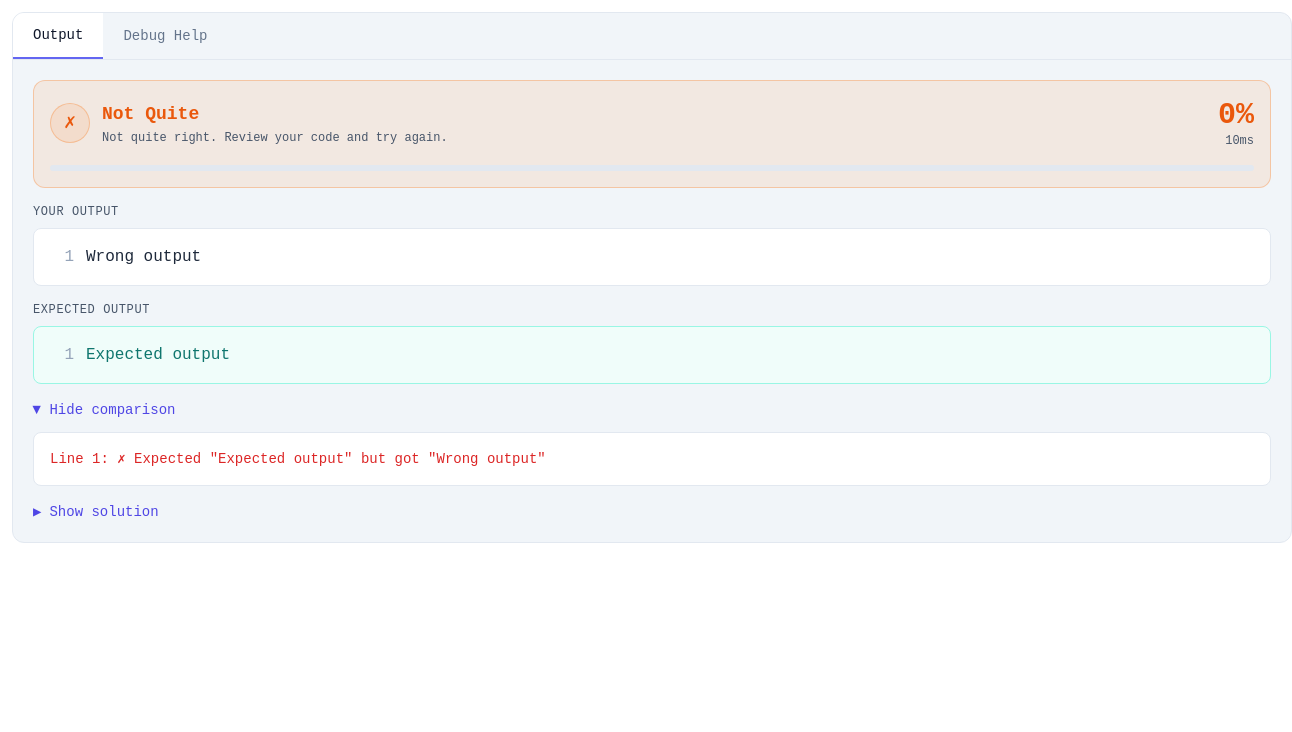
Scenario: OutputPanel › Solution Display › toggles solution visibility
Check: the text "const x = 1;" is not shown
Click to show
Click the button "▶ Show solution". click: coordinates (96, 512)
box: [33,502,159,522]
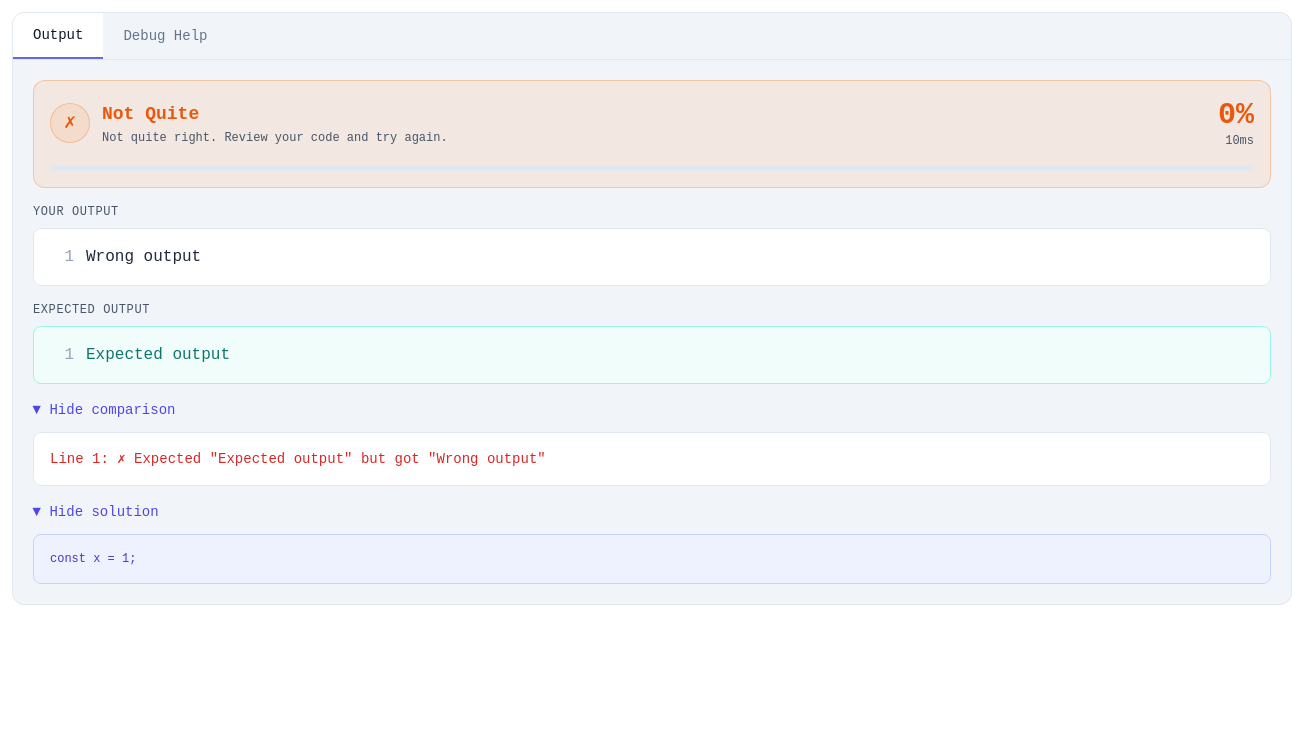
Check: the text "const x = 1;" is shown, box [50,552,136,566]
